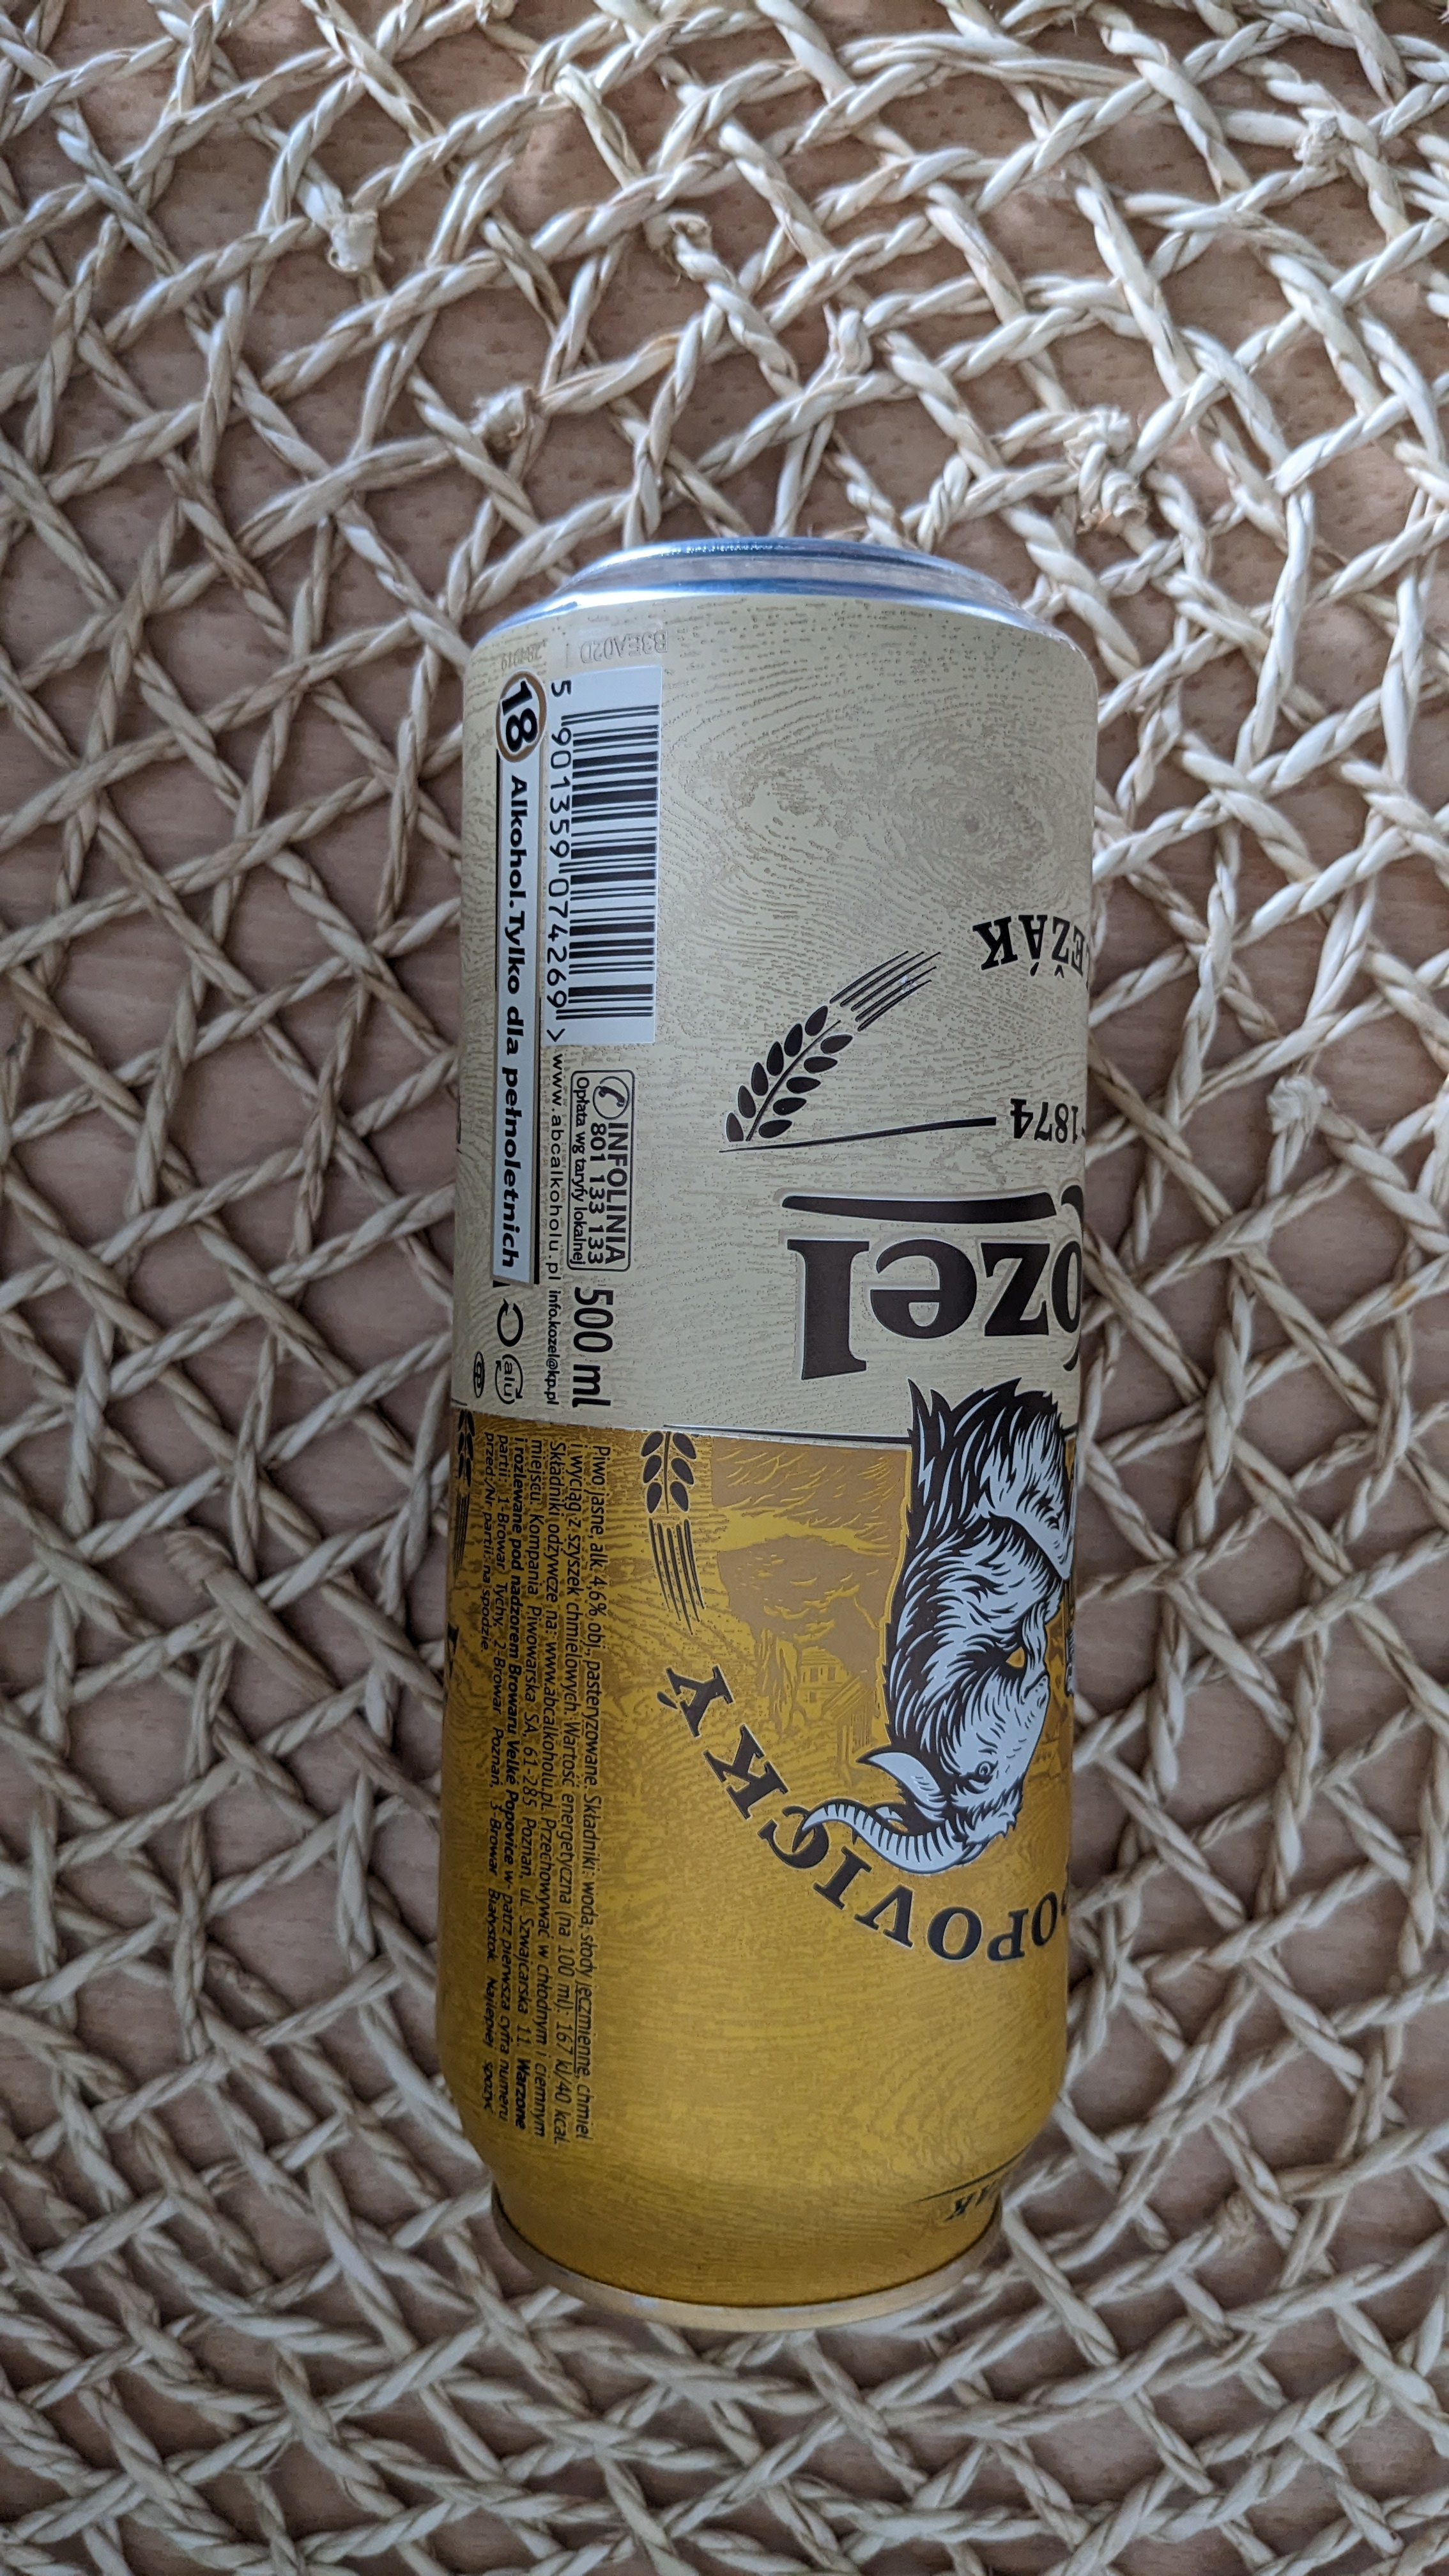kozel: (402, 520, 1136, 2348)
